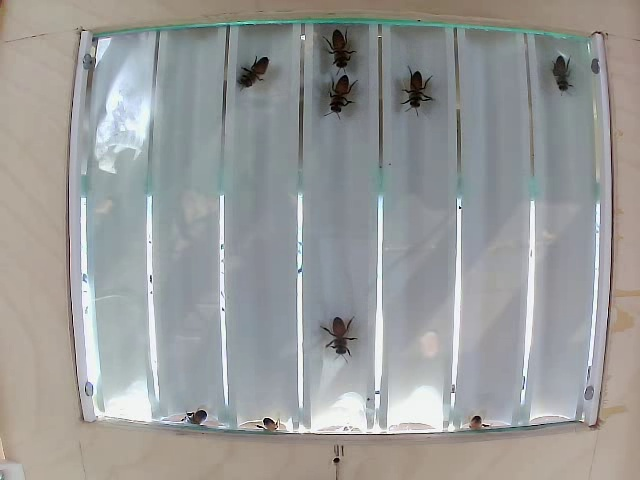bee: (228, 49, 276, 100), (320, 312, 368, 358), (322, 75, 362, 125), (318, 25, 354, 79), (546, 52, 583, 103), (397, 64, 431, 118)
